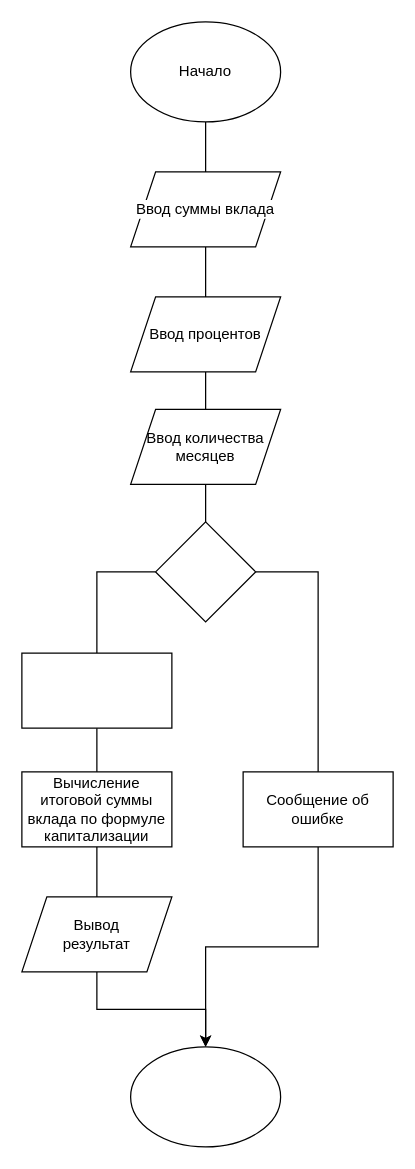
Some shapes in this 415 by 1169 pixel diagram are drawn without their labels. The centre of each missing label's shape, as x and y in pixels:
"Верно ли введены данные" belongs at [205,571].
"Вычисление месячной процентной ставки" belongs at [96,690].
"Конец" belongs at [205,1096].
